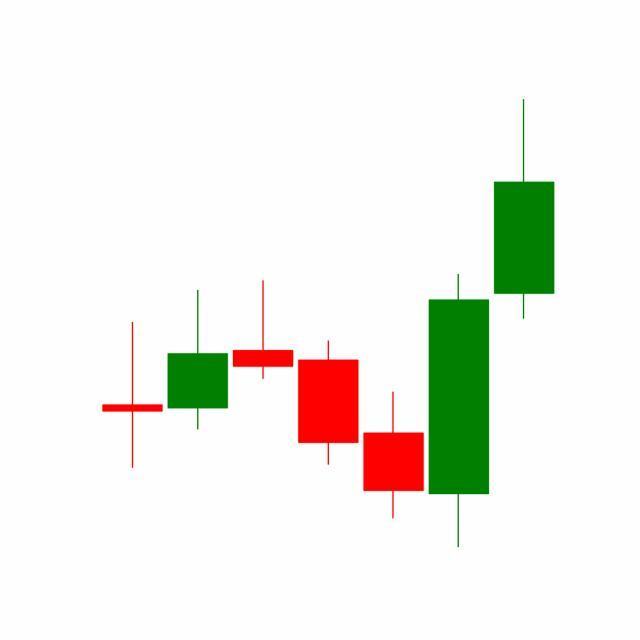Three Line Strike: (230, 270, 492, 548)
